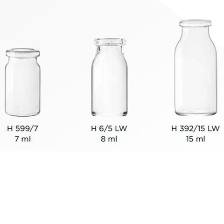bottle: (166, 16, 222, 119), (83, 35, 131, 118), (2, 45, 48, 121)
